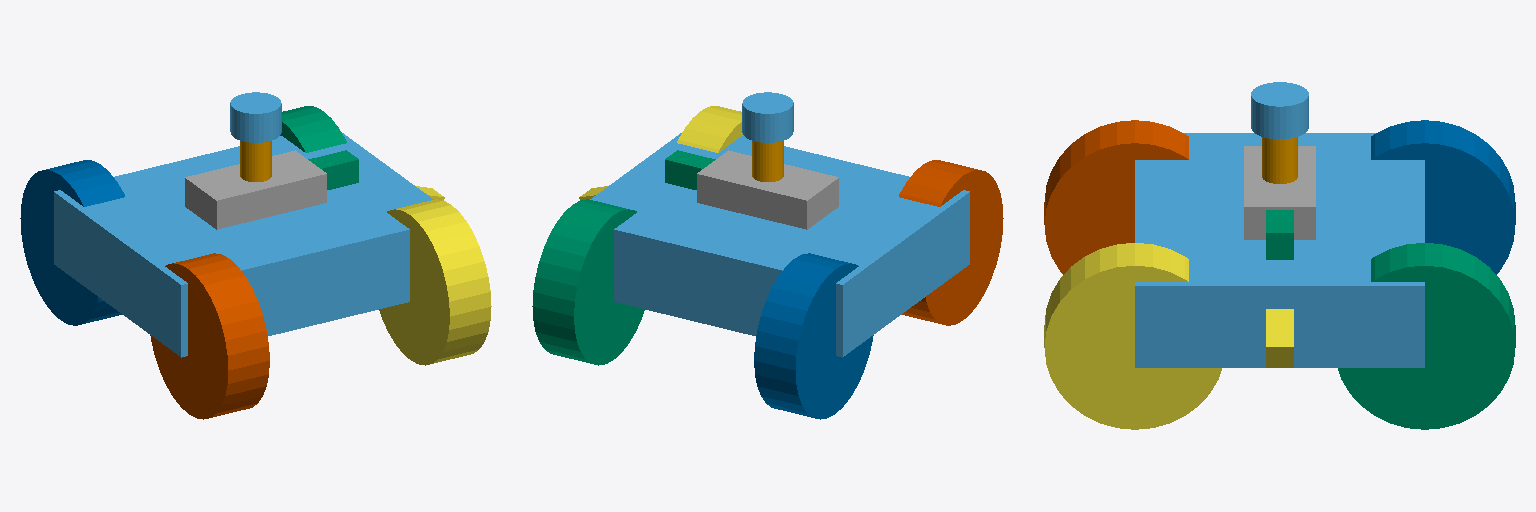
The robot description file, URDF, robot "lunabot":
<robot name="lunabot">

  <!-- base footprint on the ground -->
  <link name="base_footprint">
    <inertial>
      <origin xyz="0 0 0" rpy="0 0 0"/>
      <mass value="1.0"/>
      <inertia ixx="0.01" ixy="0" ixz="0" iyy="0.01" iyz="0" izz="0.01"/>
    </inertial>
    <visual>
      <origin xyz="0 0 0" rpy="0 0 0"/>
      <geometry>
        <sphere radius="0.01"/>
      </geometry>
    </visual>
    <collision>
      <origin xyz="0 0 0" rpy="0 0 0"/>
      <geometry>
        <sphere radius="0.01"/>
      </geometry>
    </collision>
  </link>

  <joint name="base_footprint_joint" type="fixed">
    <parent link="base_footprint"/>
    <child link="base_link"/>
    <!-- base_link center at z = 0.325 above ground -->
    <origin xyz="0 0 0.325" rpy="0 0 0"/>
  </joint>

  <!-- BODY: 1.0 x 0.8 x 0.25 m -->
  <link name="base_link">
    <inertial>
      <origin xyz="0 0 0" rpy="0 0 0"/>
      <mass value="20.0"/>
      <inertia ixx="1.0" ixy="0" ixz="0" iyy="1.0" iyz="0" izz="1.0"/>
    </inertial>
    <visual>
      <origin xyz="0 0 0" rpy="0 0 0"/>
      <geometry>
        <box size="1.0 0.8 0.25"/>
      </geometry>
    </visual>
    <collision>
      <origin xyz="0 0 0" rpy="0 0 0"/>
      <geometry>
        <box size="1.0 0.8 0.25"/>
      </geometry>
    </collision>
  </link>

  <!-- WHEELS (radius 0.25, width 0.15) -->
  <link name="wheel_fl_link">
    <inertial>
      <origin xyz="0 0 0" rpy="0 0 0"/>
      <mass value="3.0"/>
      <inertia ixx="0.02" ixy="0" ixz="0" iyy="0.02" iyz="0" izz="0.02"/>
    </inertial>
    <visual>
      <origin xyz="0 0 0" rpy="0 1.5708 0"/>
      <geometry>
        <cylinder radius="0.25" length="0.15"/>
      </geometry>
    </visual>
    <collision>
      <origin xyz="0 0 0" rpy="0 1.5708 0"/>
      <geometry>
        <cylinder radius="0.25" length="0.15"/>
      </geometry>
    </collision>
  </link>

  <link name="wheel_fr_link">
    <inertial>
      <origin xyz="0 0 0" rpy="0 0 0"/>
      <mass value="3.0"/>
      <inertia ixx="0.02" ixy="0" ixz="0" iyy="0.02" iyz="0" izz="0.02"/>
    </inertial>
    <visual>
      <origin xyz="0 0 0" rpy="0 1.5708 0"/>
      <geometry>
        <cylinder radius="0.25" length="0.15"/>
      </geometry>
    </visual>
    <collision>
      <origin xyz="0 0 0" rpy="0 1.5708 0"/>
      <geometry>
        <cylinder radius="0.25" length="0.15"/>
      </geometry>
    </collision>
  </link>

  <link name="wheel_rl_link">
    <inertial>
      <origin xyz="0 0 0" rpy="0 0 0"/>
      <mass value="3.0"/>
      <inertia ixx="0.02" ixy="0" ixz="0" iyy="0.02" iyz="0" izz="0.02"/>
    </inertial>
    <visual>
      <origin xyz="0 0 0" rpy="0 1.5708 0"/>
      <geometry>
        <cylinder radius="0.25" length="0.15"/>
      </geometry>
    </visual>
    <collision>
      <origin xyz="0 0 0" rpy="0 1.5708 0"/>
      <geometry>
        <cylinder radius="0.25" length="0.15"/>
      </geometry>
    </collision>
  </link>

  <link name="wheel_rr_link">
    <inertial>
      <origin xyz="0 0 0" rpy="0 0 0"/>
      <mass value="3.0"/>
      <inertia ixx="0.02" ixy="0" ixz="0" iyy="0.02" iyz="0" izz="0.02"/>
    </inertial>
    <visual>
      <origin xyz="0 0 0" rpy="0 1.5708 0"/>
      <geometry>
        <cylinder radius="0.25" length="0.15"/>
      </geometry>
    </visual>
    <collision>
      <origin xyz="0 0 0" rpy="0 1.5708 0"/>
      <geometry>
        <cylinder radius="0.25" length="0.15"/>
      </geometry>
    </collision>
  </link>

  <!-- wheel centers should be at z=0.25 above ground => offset -0.075 from base_link -->
  <joint name="wheel_fl_joint" type="continuous">
    <parent link="base_link"/>
    <child link="wheel_fl_link"/>
    <origin xyz="0.40 0.40 -0.075" rpy="0 0 0"/>
    <axis xyz="0 1 0"/>
  </joint>

  <joint name="wheel_fr_joint" type="continuous">
    <parent link="base_link"/>
    <child link="wheel_fr_link"/>
    <origin xyz="0.40 -0.40 -0.075" rpy="0 0 0"/>
    <axis xyz="0 1 0"/>
  </joint>

  <joint name="wheel_rl_joint" type="continuous">
    <parent link="base_link"/>
    <child link="wheel_rl_link"/>
    <origin xyz="-0.40 0.40 -0.075" rpy="0 0 0"/>
    <axis xyz="0 1 0"/>
  </joint>

  <joint name="wheel_rr_joint" type="continuous">
    <parent link="base_link"/>
    <child link="wheel_rr_link"/>
    <origin xyz="-0.40 -0.40 -0.075" rpy="0 0 0"/>
    <axis xyz="0 1 0"/>
  </joint>

  <!-- IMU at body center -->
  <link name="imu_link">
    <inertial>
      <origin xyz="0 0 0" rpy="0 0 0"/>
      <mass value="0.2"/>
      <inertia ixx="0.001" ixy="0" ixz="0" iyy="0.001" iyz="0" izz="0.001"/>
    </inertial>
    <visual>
      <origin xyz="0 0 0" rpy="0 0 0"/>
      <geometry>
        <box size="0.05 0.05 0.05"/>
      </geometry>
    </visual>
    <collision>
      <origin xyz="0 0 0" rpy="0 0 0"/>
      <geometry>
        <box size="0.05 0.05 0.05"/>
      </geometry>
    </collision>
  </link>

  <joint name="imu_joint" type="fixed">
    <parent link="base_link"/>
    <child link="imu_link"/>
    <!-- imu at center of body -->
    <origin xyz="0 0 0" rpy="0 0 0"/>
  </joint>

  <!-- CAMERA MOUNT BOX at center top of body -->
  <link name="camera_mount_link">
    <inertial>
      <origin xyz="0 0 0" rpy="0 0 0"/>
      <mass value="0.8"/>
      <inertia ixx="0.01" ixy="0" ixz="0" iyy="0.01" iyz="0" izz="0.01"/>
    </inertial>
    <visual>
      <origin xyz="0 0 0" rpy="0 0 0"/>
      <geometry>
        <box size="0.40 0.20 0.10"/>
      </geometry>
    </visual>
    <collision>
      <origin xyz="0 0 0" rpy="0 0 0"/>
      <geometry>
        <box size="0.40 0.20 0.10"/>
      </geometry>
    </collision>
  </link>

  <!-- body top is at +0.125, camera box half-height 0.05 => center at 0.175 -->
  <joint name="camera_mount_joint" type="fixed">
    <parent link="base_link"/>
    <child link="camera_mount_link"/>
    <origin xyz="0 0 0.175" rpy="0 0 0"/>
  </joint>

  <!-- MAST on top of camera box -->
  <link name="mast_link">
    <inertial>
      <origin xyz="0 0 0" rpy="0 0 0"/>
      <mass value="1.0"/>
      <inertia ixx="0.01" ixy="0" ixz="0" iyy="0.01" iyz="0" izz="0.01"/>
    </inertial>
    <visual>
      <origin xyz="0 0 0" rpy="0 0 0"/>
      <geometry>
        <cylinder radius="0.05" length="0.20"/>
      </geometry>
    </visual>
    <collision>
      <origin xyz="0 0 0" rpy="0 0 0"/>
      <geometry>
        <cylinder radius="0.05" length="0.20"/>
      </geometry>
    </collision>
  </link>

  <!-- camera box half-thickness 0.05; mast half-length 0.10; so joint at 0.15 above box center -->
  <joint name="mast_joint" type="fixed">
    <parent link="camera_mount_link"/>
    <child link="mast_link"/>
    <origin xyz="0 0 0.15" rpy="0 0 0"/>
  </joint>

  <!-- LIDAR at top of mast -->
  <link name="lidar_link">
    <inertial>
      <origin xyz="0 0 0" rpy="0 0 0"/>
      <mass value="0.5"/>
      <inertia ixx="0.005" ixy="0" ixz="0" iyy="0.005" iyz="0" izz="0.005"/>
    </inertial>
    <visual>
      <origin xyz="0 0 0" rpy="0 0 0"/>
      <geometry>
        <cylinder radius="0.08" length="0.10"/>
      </geometry>
    </visual>
    <collision>
      <origin xyz="0 0 0" rpy="0 0 0"/>
      <geometry>
        <cylinder radius="0.08" length="0.10"/>
      </geometry>
    </collision>
  </link>

  <joint name="lidar_joint" type="fixed">
    <parent link="mast_link"/>
    <child link="lidar_link"/>
    <origin xyz="0 0 0.10" rpy="0 0 0"/>
  </joint>

  <!-- RGB CAMERA in front of camera box -->
  <link name="rgb_camera_link">
    <inertial>
      <origin xyz="0 0 0" rpy="0 0 0"/>
      <mass value="0.3"/>
      <inertia ixx="0.001" ixy="0" ixz="0" iyy="0.001" iyz="0" izz="0.001"/>
    </inertial>
    <visual>
      <origin xyz="0 0 0" rpy="0 0 0"/>
      <geometry>
        <box size="0.15 0.08 0.08"/>
      </geometry>
    </visual>
    <collision>
      <origin xyz="0 0 0" rpy="0 0 0"/>
      <geometry>
        <box size="0.15 0.08 0.08"/>
      </geometry>
    </collision>
  </link>

  <!-- camera box half-length = 0.2, camera half-length = 0.075 => 0.275 forward -->
  <joint name="rgb_camera_joint" type="fixed">
    <parent link="camera_mount_link"/>
    <child link="rgb_camera_link"/>
    <origin xyz="0.275 0 0" rpy="0 0 0"/>
  </joint>

  <!-- DEPTH CAMERA on the front of the main body, looking down -->
  <link name="depth_camera_link">
    <inertial>
      <origin xyz="0 0 0" rpy="0 0 0"/>
      <mass value="0.3"/>
      <inertia ixx="0.001" ixy="0" ixz="0" iyy="0.001" iyz="0" izz="0.001"/>
    </inertial>
    <visual>
      <origin xyz="0 0 0" rpy="0 0 0"/>
      <geometry>
        <box size="0.15 0.08 0.08"/>
      </geometry>
    </visual>
    <collision>
      <origin xyz="0 0 0" rpy="0 0 0"/>
      <geometry>
        <box size="0.15 0.08 0.08"/>
      </geometry>
    </collision>
  </link>

  <!-- body front face at x=+0.5, camera half-length 0.075 => 0.575 forward -->
  <joint name="depth_camera_joint" type="fixed">
    <parent link="base_link"/>
    <child link="depth_camera_link"/>
    <origin xyz="0.575 0 0" rpy="0 0.35 0"/>
  </joint>

  <!-- GAZEBO PLUGINS -->

  <gazebo>
    <plugin name="gazebo_ros_diff_drive" filename="libgazebo_ros_diff_drive.so">
      <ros>
        <namespace>/</namespace>
        <remapping>cmd_vel:=/cmd_vel</remapping>
        <remapping>odom:=/odom</remapping>
      </ros>
      <left_joint>wheel_fl_joint</left_joint>
      <left_joint>wheel_rl_joint</left_joint>
      <right_joint>wheel_fr_joint</right_joint>
      <right_joint>wheel_rr_joint</right_joint>
      <wheel_separation>0.8</wheel_separation>
      <wheel_diameter>0.5</wheel_diameter>
      <publish_odom>true</publish_odom>
      <publish_tf>true</publish_tf>
      <robot_base_frame>base_link</robot_base_frame>
    </plugin>
  </gazebo>

  <!-- wheel friction -->
  <gazebo reference="wheel_fl_link">
    <mu1>1.0</mu1>
    <mu2>1.0</mu2>
    <kp>1000000.0</kp>
    <kd>10.0</kd>
  </gazebo>

  <gazebo reference="wheel_fr_link">
    <mu1>1.0</mu1>
    <mu2>1.0</mu2>
    <kp>1000000.0</kp>
    <kd>10.0</kd>
  </gazebo>

  <gazebo reference="wheel_rl_link">
    <mu1>1.0</mu1>
    <mu2>1.0</mu2>
    <kp>1000000.0</kp>
    <kd>10.0</kd>
  </gazebo>

  <gazebo reference="wheel_rr_link">
    <mu1>1.0</mu1>
    <mu2>1.0</mu2>
    <kp>1000000.0</kp>
    <kd>10.0</kd>
  </gazebo>

  <!-- IMU sensor -->
  <gazebo reference="imu_link">
    <sensor type="imu" name="imu_sensor">
      <always_on>true</always_on>
      <update_rate>50.0</update_rate>
      <plugin name="imu_plugin" filename="libgazebo_ros_imu.so">
        <ros>
          <namespace>/</namespace>
          <remapping>imu:=/imu</remapping>
        </ros>
        <frame_name>imu_link</frame_name>
      </plugin>
    </sensor>
  </gazebo>

  <!-- LiDAR sensor -->
  <gazebo reference="lidar_link">
    <sensor type="ray" name="lidar_sensor">
      <pose>0 0 0 0 0 0</pose>
      <always_on>true</always_on>
      <update_rate>10.0</update_rate>
      <visualize>true</visualize>
      <ray>
        <scan>
          <horizontal>
            <samples>720</samples>
            <resolution>1</resolution>
            <min_angle>-3.14159</min_angle>
            <max_angle>3.14159</max_angle>
          </horizontal>
        </scan>
        <range>
          <min>0.1</min>
          <max>30.0</max>
          <resolution>0.01</resolution>
        </range>
      </ray>
      <plugin name="lidar_plugin" filename="libgazebo_ros_ray_sensor.so">
        <ros>
          <namespace>/</namespace>
          <remapping>scan:=/scan</remapping>
        </ros>
        <frame_name>lidar_link</frame_name>
      </plugin>
    </sensor>
  </gazebo>

  <!-- RGB camera sensor -->
  <gazebo reference="rgb_camera_link">
    <sensor type="camera" name="rgb_camera_sensor">
      <always_on>true</always_on>
      <update_rate>15.0</update_rate>
      <camera>
        <horizontal_fov>1.047</horizontal_fov>
        <image>
          <width>640</width>
          <height>480</height>
          <format>R8G8B8</format>
        </image>
        <clip>
          <near>0.1</near>
          <far>50.0</far>
        </clip>
      </camera>
      <plugin name="rgb_camera_plugin" filename="libgazebo_ros_camera.so">
        <ros>
          <namespace>/</namespace>
          <remapping>image_raw:=/rgb_camera/image_raw</remapping>
          <remapping>camera_info:=/rgb_camera/camera_info</remapping>
        </ros>
        <frame_name>rgb_camera_link</frame_name>
      </plugin>
    </sensor>
  </gazebo>

  <!-- Depth camera sensor -->
  <gazebo reference="depth_camera_link">
    <sensor type="depth" name="depth_camera_sensor">
      <always_on>true</always_on>
      <update_rate>15.0</update_rate>
      <camera>
        <horizontal_fov>1.047</horizontal_fov>
        <image>
          <width>640</width>
          <height>480</height>
          <format>R8G8B8</format>
        </image>
        <clip>
          <near>0.2</near>
          <far>30.0</far>
        </clip>
      </camera>
      <plugin name="depth_camera_plugin" filename="libgazebo_ros_depth_camera.so">
        <ros>
          <namespace>/</namespace>
          <remapping>image_raw:=/depth_camera/image_raw</remapping>
          <remapping>camera_info:=/depth_camera/camera_info</remapping>
          <remapping>depth:=/depth_camera/depth</remapping>
        </ros>
        <frame_name>depth_camera_link</frame_name>
      </plugin>
    </sensor>
  </gazebo>

</robot>

--- What the picture shows (computed from the rendered views, not written in the file) ---
3 views of the same robot in one strip: view 1: azimuth 30°, elevation 25°; view 2: azimuth 150°, elevation 25°; view 3: azimuth 270°, elevation 25° (orthographic).
Model lunabot with 12 links and 11 joints (4 continuous, 7 fixed), rooted at base_footprint, posed all joints at 0.
Visible links, largest first — view 1: base_link, wheel_rr_link, wheel_fr_link, wheel_rl_link, camera_mount_link, lidar_link, wheel_fl_link, rgb_camera_link, mast_link; view 2: base_link, wheel_rl_link, wheel_fl_link, wheel_rr_link, camera_mount_link, lidar_link, wheel_fr_link, rgb_camera_link, mast_link; view 3: base_link, wheel_fl_link, wheel_fr_link, wheel_rl_link, wheel_rr_link, camera_mount_link, lidar_link, depth_camera_link, mast_link, rgb_camera_link.
Boxes of the visible links, x1=… form: base_link: x1=54, y1=133, x2=433, y2=357; wheel_rr_link: x1=150, y1=253, x2=269, y2=419; wheel_fr_link: x1=379, y1=199, x2=491, y2=365; wheel_rl_link: x1=20, y1=160, x2=124, y2=325; camera_mount_link: x1=185, y1=150, x2=326, y2=229; lidar_link: x1=230, y1=92, x2=281, y2=142; wheel_fl_link: x1=280, y1=106, x2=346, y2=152; rgb_camera_link: x1=308, y1=150, x2=358, y2=189; mast_link: x1=240, y1=141, x2=271, y2=181; base_link: x1=590, y1=133, x2=969, y2=357; wheel_rl_link: x1=754, y1=253, x2=873, y2=419; wheel_fl_link: x1=532, y1=199, x2=644, y2=365; wheel_rr_link: x1=899, y1=160, x2=1003, y2=325; camera_mount_link: x1=697, y1=150, x2=838, y2=229; lidar_link: x1=742, y1=92, x2=793, y2=142; wheel_fr_link: x1=677, y1=106, x2=743, y2=152; rgb_camera_link: x1=665, y1=150, x2=715, y2=189; mast_link: x1=752, y1=141, x2=783, y2=181; base_link: x1=1135, y1=133, x2=1424, y2=367; wheel_fl_link: x1=1338, y1=243, x2=1515, y2=429; wheel_fr_link: x1=1044, y1=243, x2=1221, y2=429; wheel_rl_link: x1=1371, y1=120, x2=1515, y2=274; wheel_rr_link: x1=1044, y1=120, x2=1188, y2=274; camera_mount_link: x1=1244, y1=146, x2=1315, y2=239; lidar_link: x1=1251, y1=82, x2=1308, y2=138; depth_camera_link: x1=1266, y1=309, x2=1293, y2=367; mast_link: x1=1262, y1=137, x2=1297, y2=183; rgb_camera_link: x1=1266, y1=210, x2=1293, y2=259.
Bounding box of the posed robot: 1.16 × 1.3 × 0.81 m (x, y, z).
Geometry: primitives only (box / cylinder / sphere), no mesh files.
